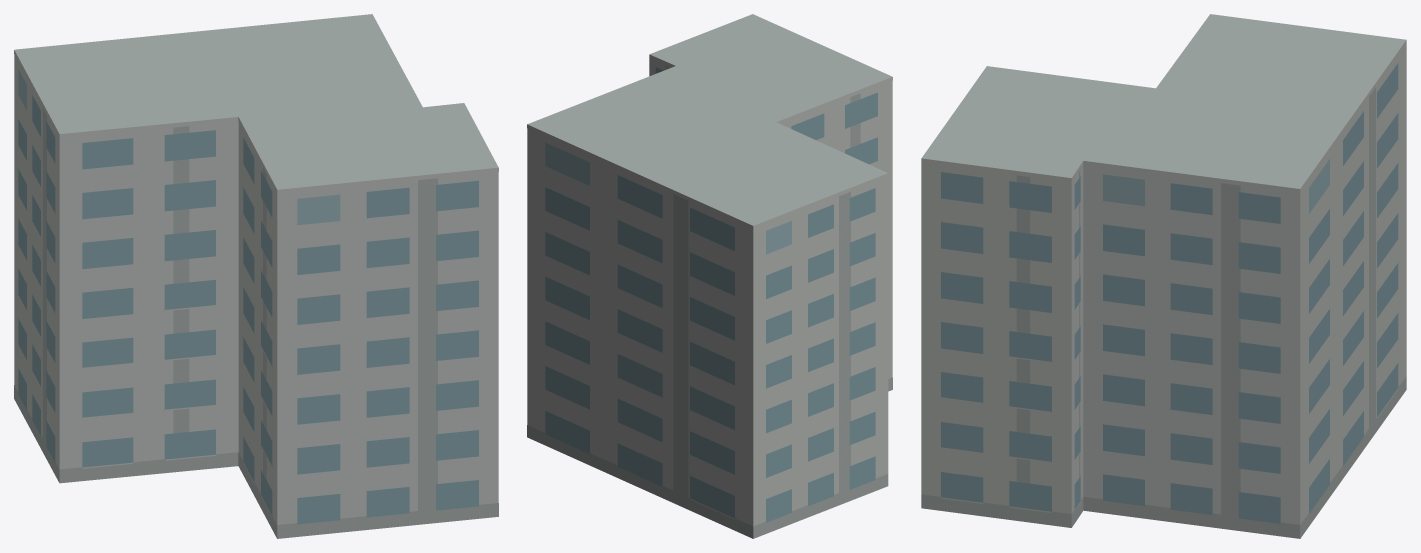
File: survey-upis-32871104.glb
3 renders of one model, left to right at view 1: azimuth 30°, elevation 25°; view 2: azimuth 150°, elevation 25°; view 3: azimuth 270°, elevation 25°, orthographic. The views are drawn at different scales.
Visible parts, largest first — view 1: survey-upis-32871104.tmp; view 2: survey-upis-32871104.tmp; view 3: survey-upis-32871104.tmp.
Boxes of the visible parts, bbox=[...] form: survey-upis-32871104.tmp: bbox=[14, 14, 498, 538]; survey-upis-32871104.tmp: bbox=[527, 14, 892, 538]; survey-upis-32871104.tmp: bbox=[921, 14, 1406, 538].
Bounding box in the file's own units: 20.6 × 19.2 × 24.14.
